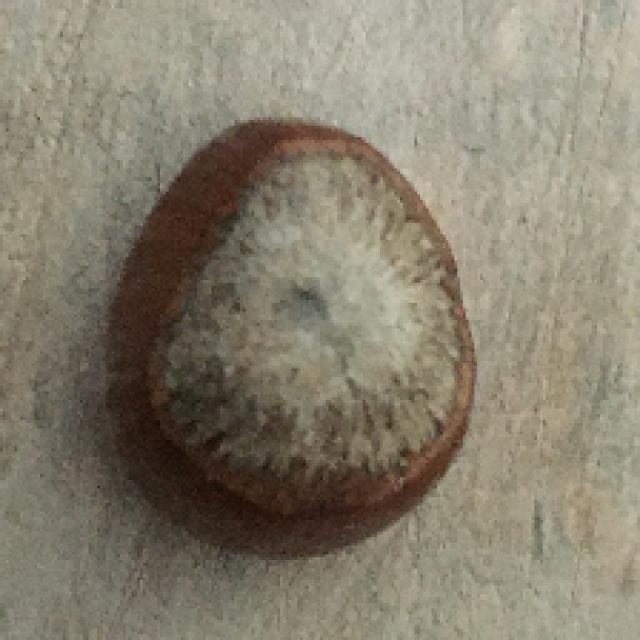qualityHazelnut: (99, 108, 479, 571)
